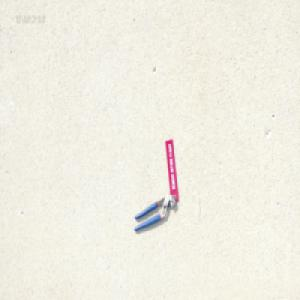Label: (165, 137, 178, 200)
Pliers: (133, 194, 176, 232)
